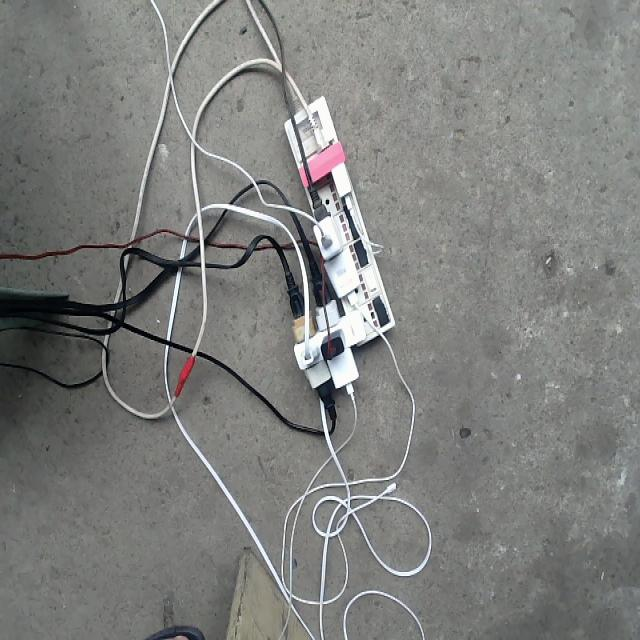-: (267, 94, 395, 418)
